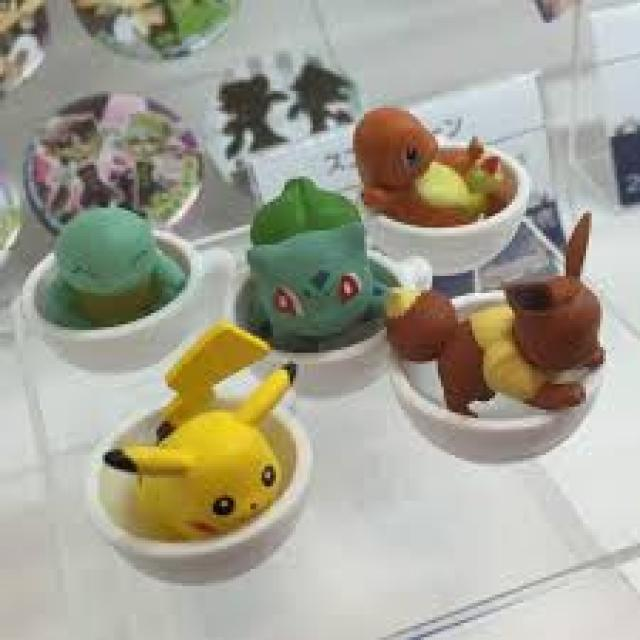Bulbasaur: (245, 186, 378, 346)
Charmander: (356, 106, 510, 226)
Eevee: (393, 266, 613, 418)
Pikachu: (107, 383, 285, 542)
Squirtle: (44, 202, 187, 329)
